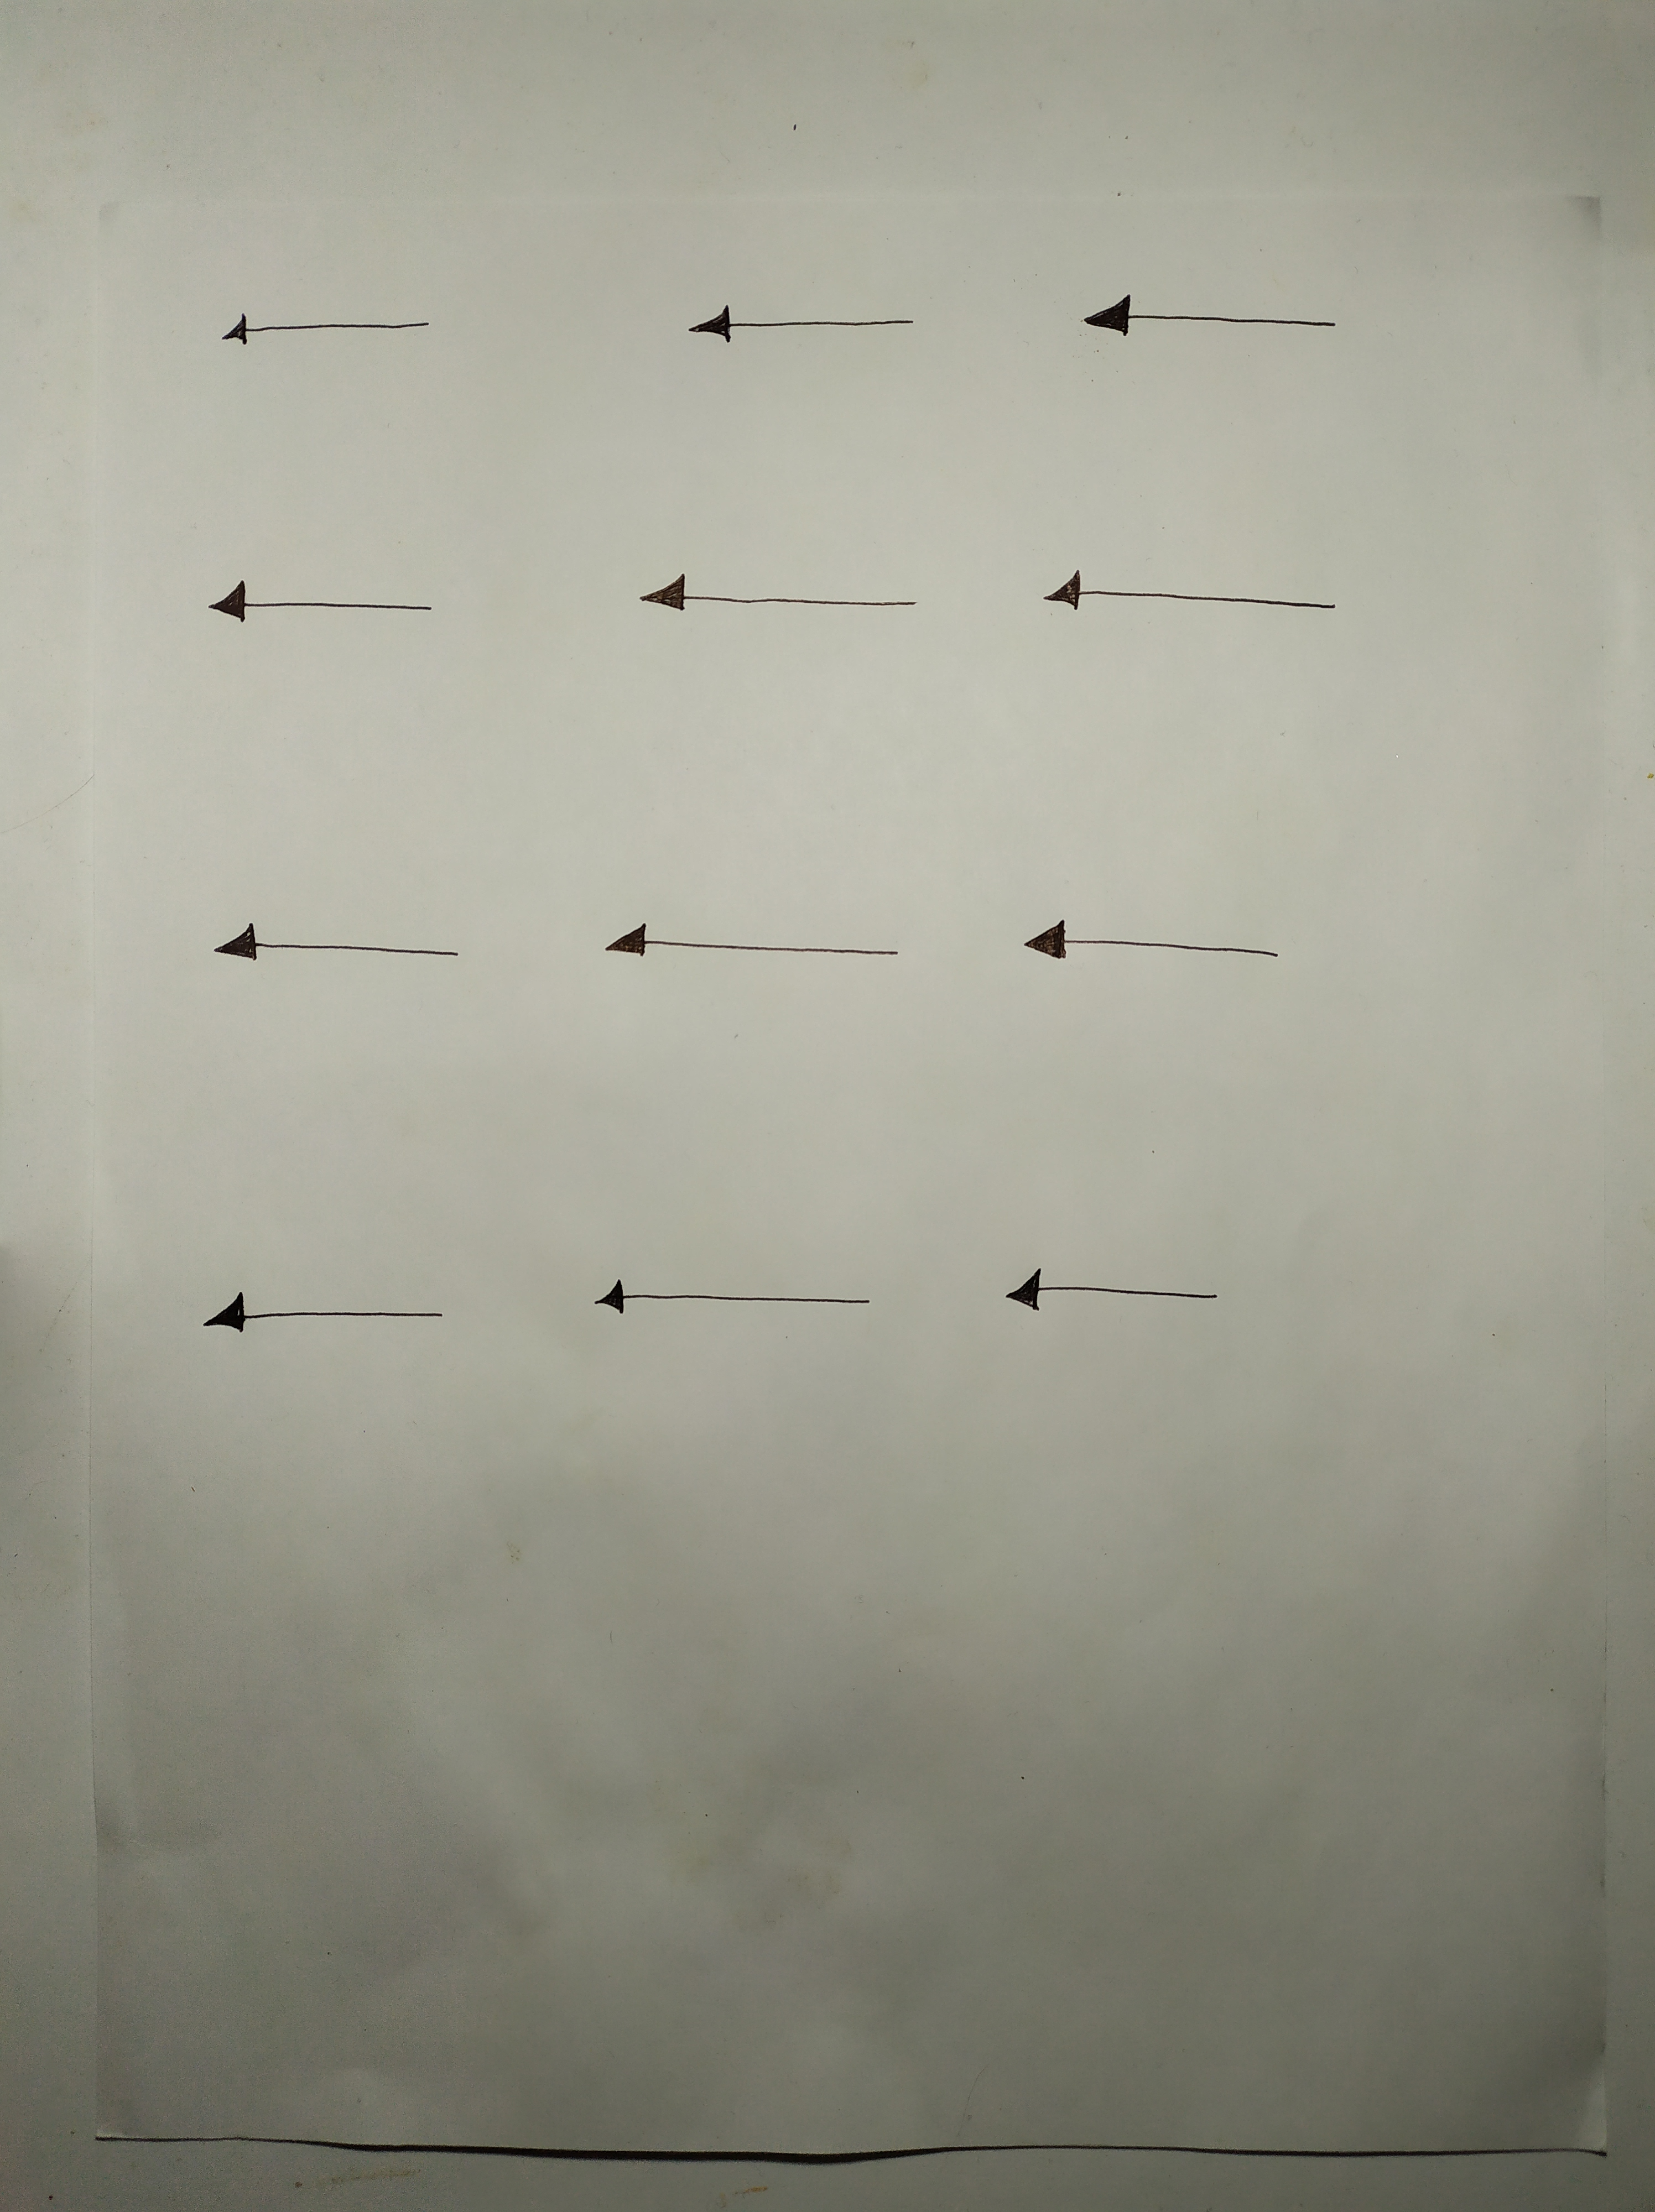arrow_line_left: (989, 890, 1309, 1008), (560, 1246, 897, 1357), (574, 898, 921, 1004), (1012, 547, 1361, 648), (181, 900, 494, 1003), (612, 554, 944, 648), (1048, 264, 1358, 363), (977, 1241, 1259, 1347), (172, 1270, 482, 1364), (169, 561, 471, 641), (657, 285, 947, 363), (205, 294, 464, 360)
